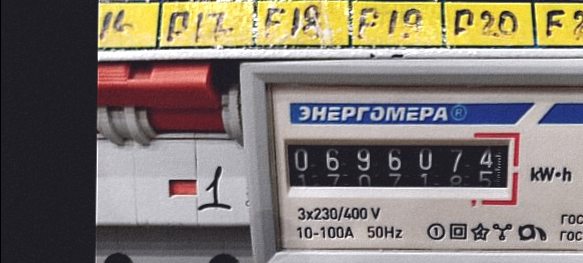0: (291, 146, 310, 171), (418, 145, 434, 171)
4: (479, 145, 495, 169)
5: (479, 168, 494, 187)
6: (324, 145, 343, 172), (386, 146, 403, 171)
7: (447, 146, 465, 172)
9: (354, 146, 373, 171)
screen: (272, 124, 525, 208)
